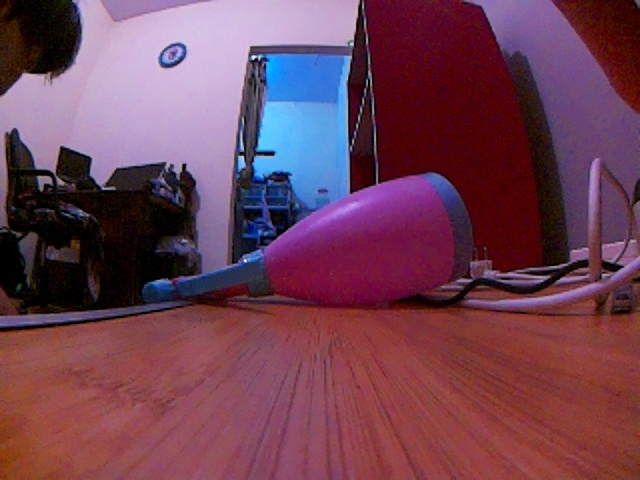korban: (144, 170, 483, 304)
